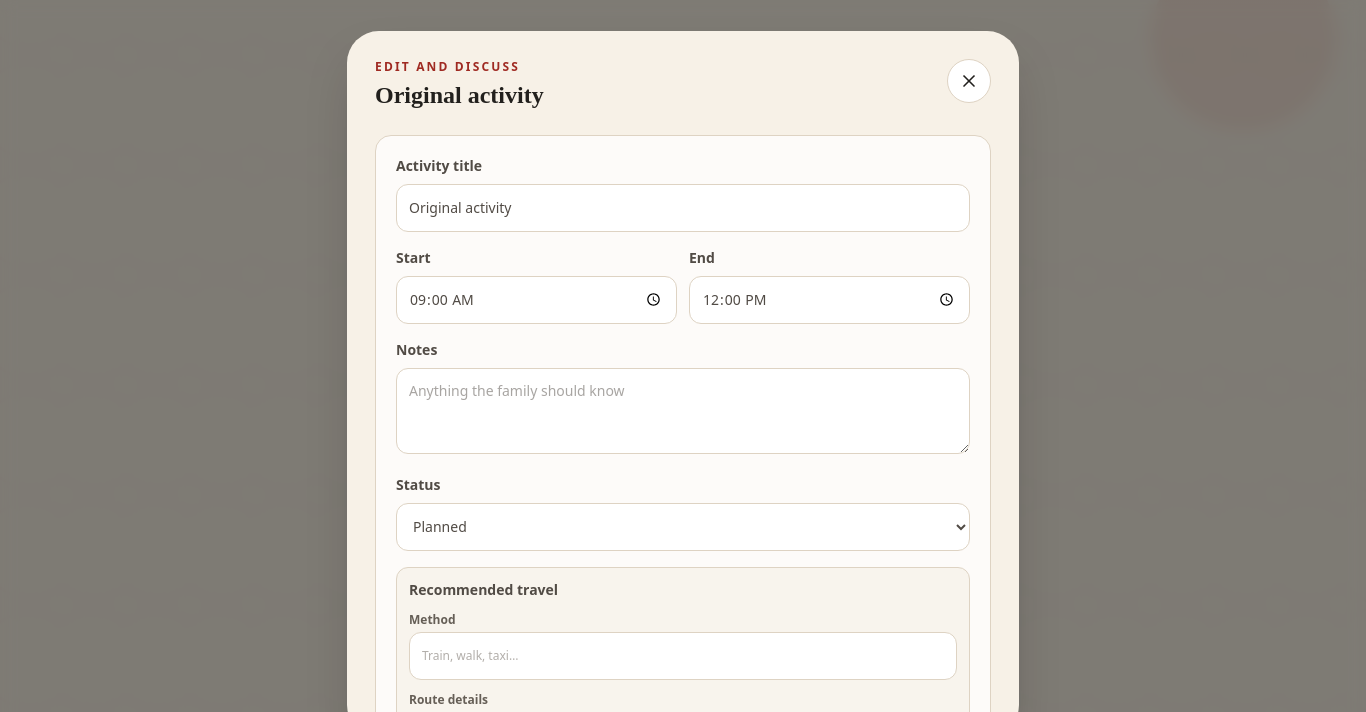
Test: event details › saves edits in preview mode
The width and height of the screenshot is (1366, 712).
Replace the text in the field labelled "Activity title" with "Updated activity": (683, 208) [396,184,970,232]
(page scrolled)
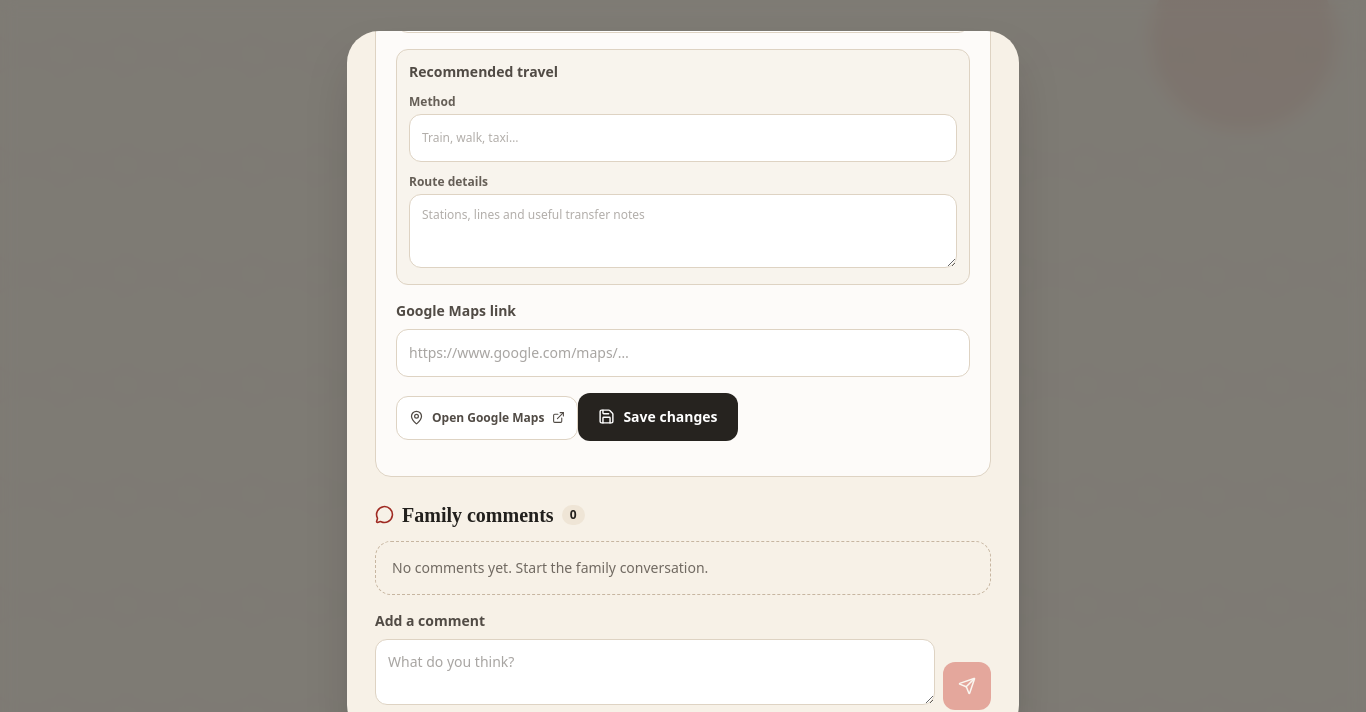
Click the button "Save changes": click(658, 417) [578,393,738,441]
(page scrolled)
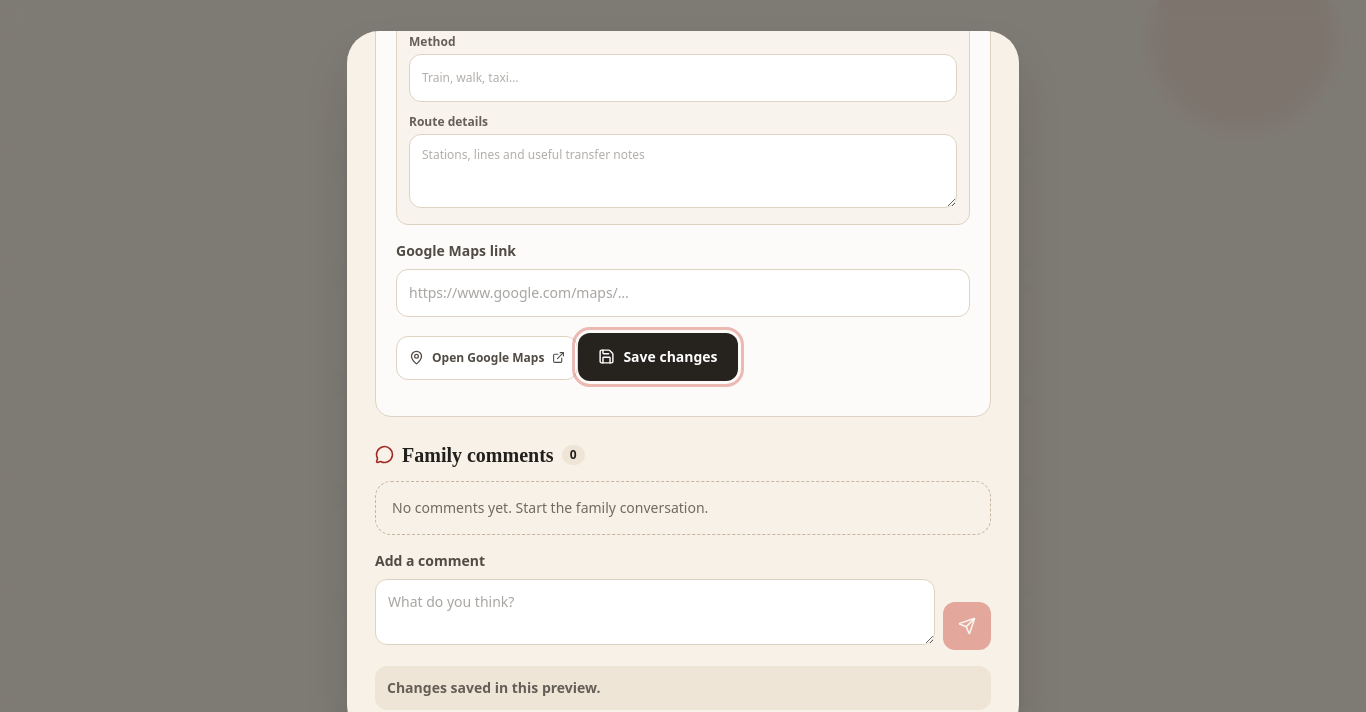
Check: the text "Changes saved in this preview." is shown, box [375,666,991,710]
